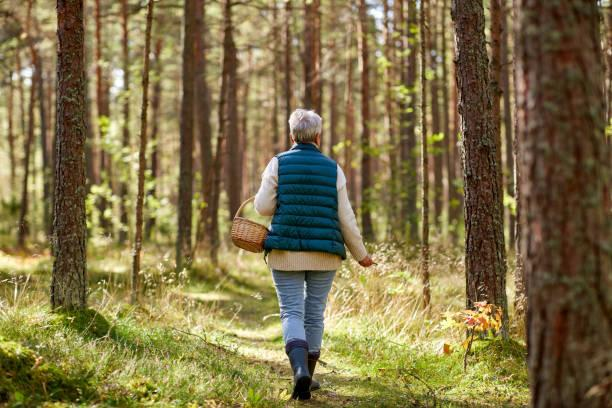Human: (237, 70, 379, 407)
